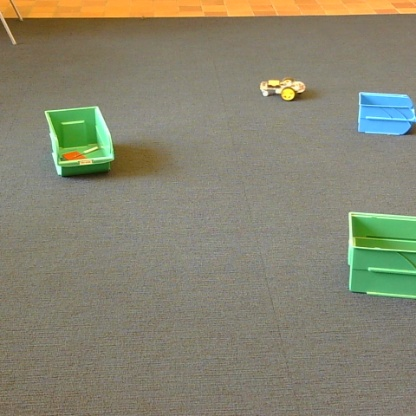robot: (260, 77, 305, 101)
